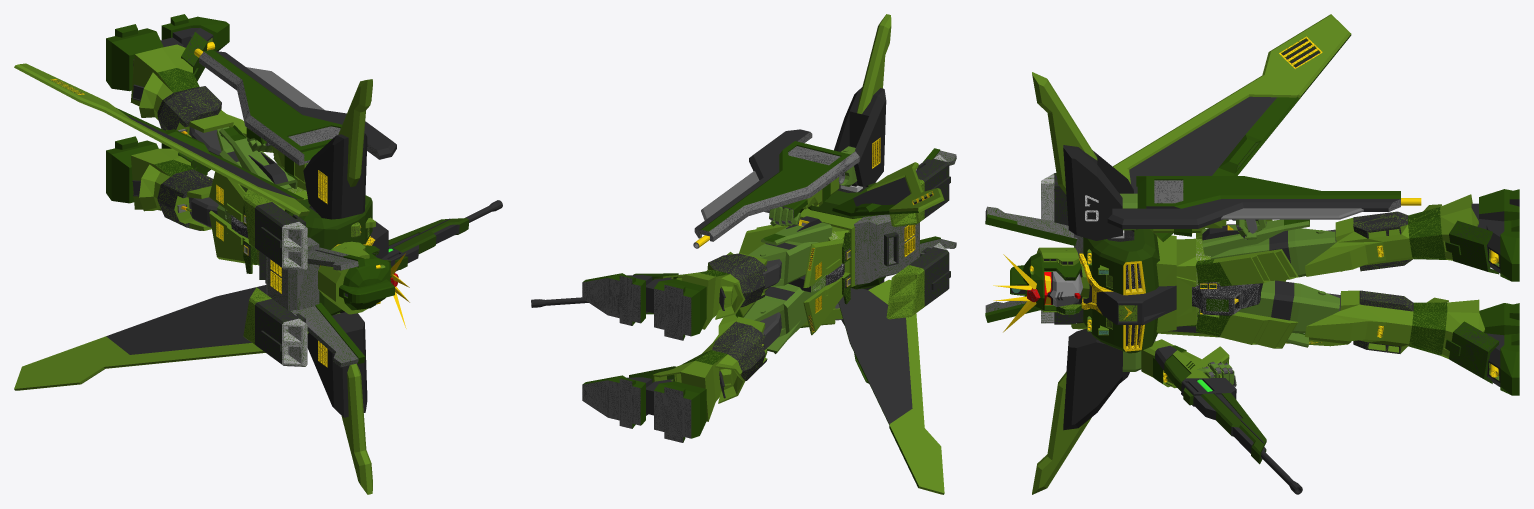
3 views of the same model, side by side, from view 1: azimuth 30°, elevation 25°; view 2: azimuth 150°, elevation 25°; view 3: azimuth 270°, elevation 25° (orthographic). The views are drawn at different scales.
Visible parts, largest first — view 1: my gundam consept; view 2: my gundam consept; view 3: my gundam consept.
Part boxes in pixels (x1,y1,x2,y2): my gundam consept: [14, 14, 502, 494]; my gundam consept: [531, 14, 956, 494]; my gundam consept: [985, 14, 1519, 494].
Size of the model in its own units: 409 by 344 by 396.
